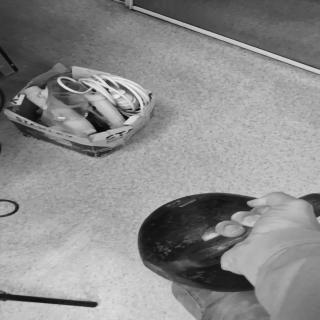kettlebell: (139, 193, 320, 292)
